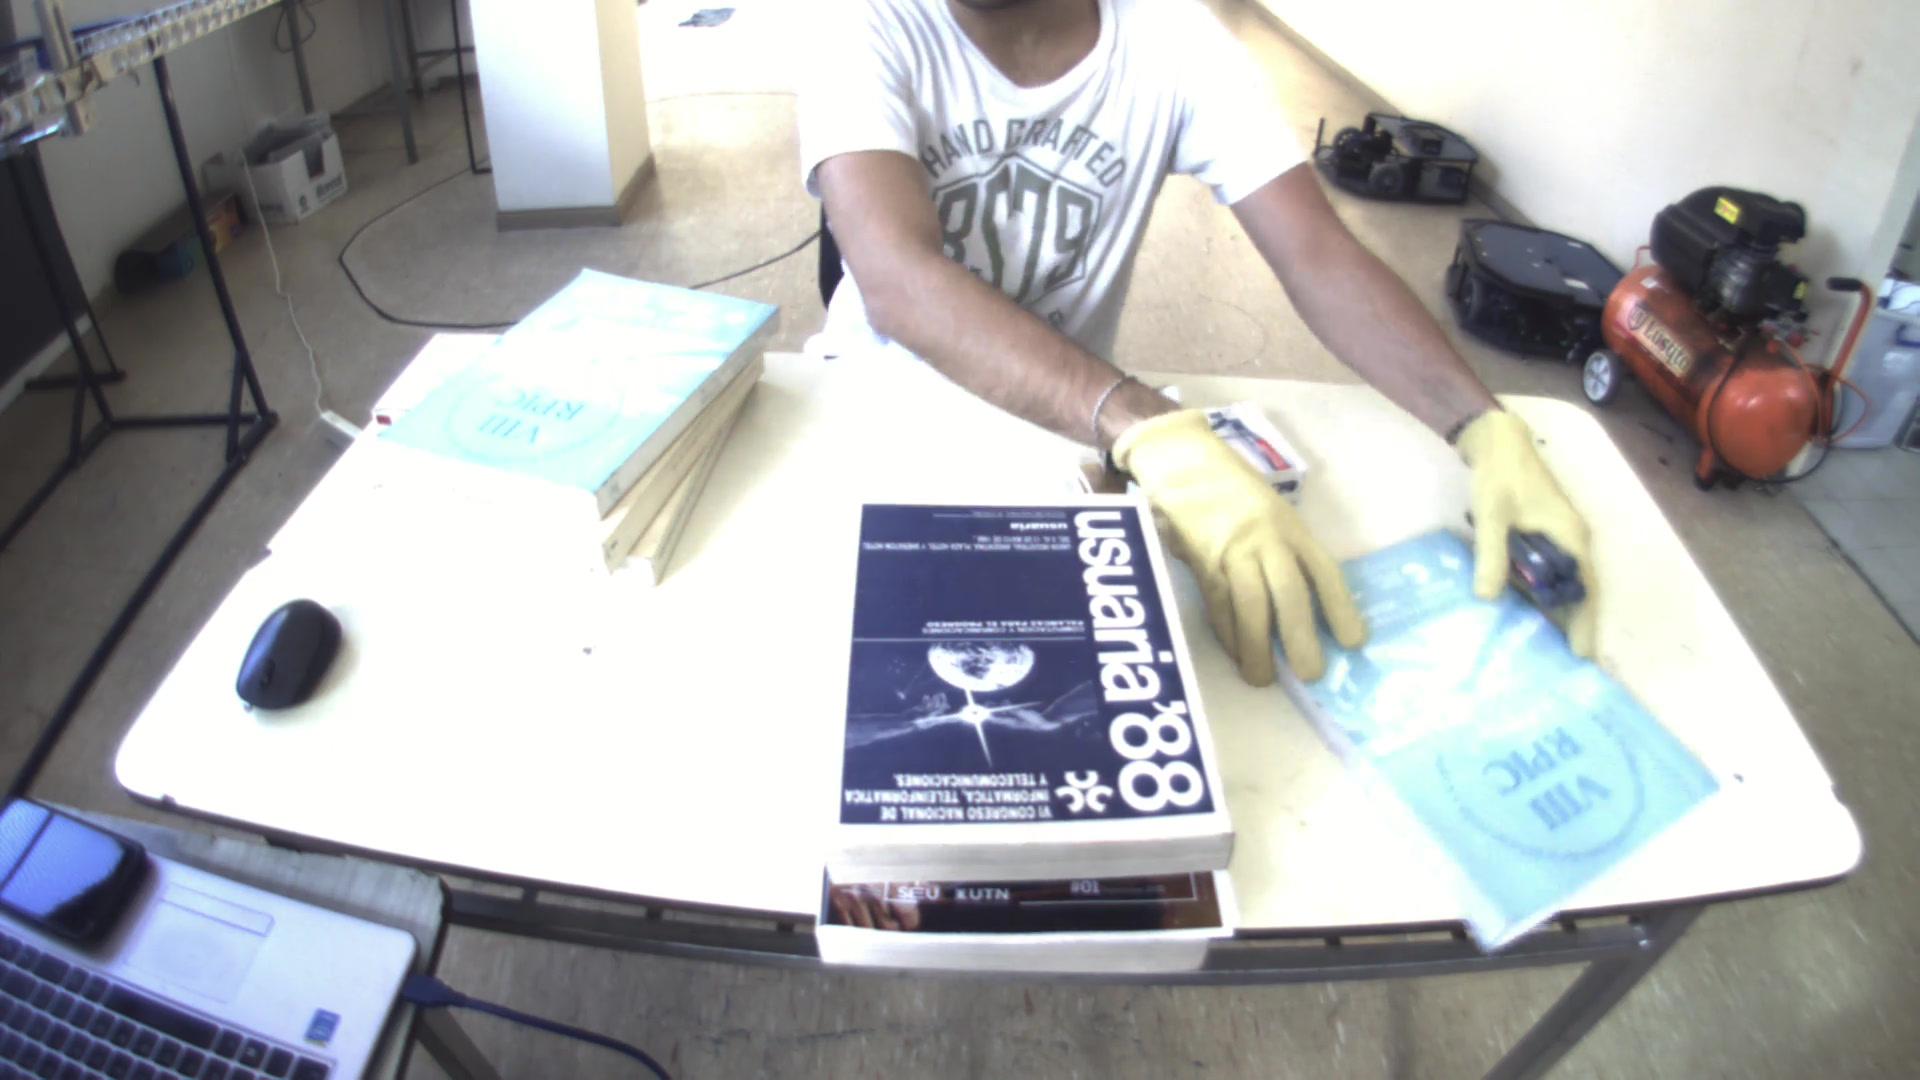hand: (1102, 398, 1385, 688), (1452, 404, 1607, 674)
